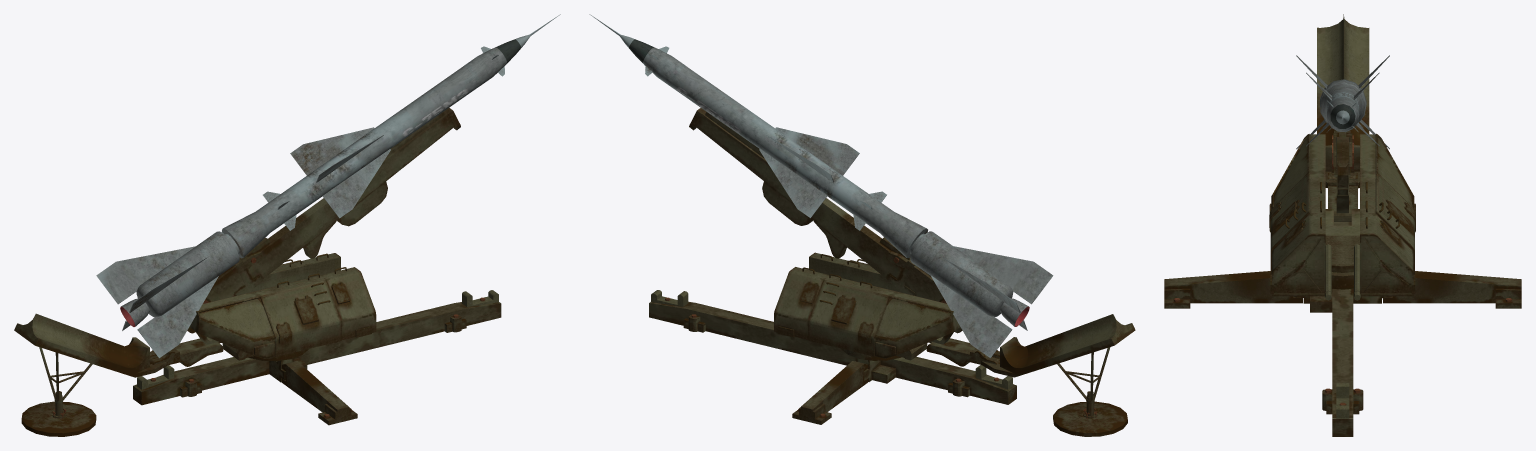
The model's file is sam2.glb.
The picture shows the model from 3 angles, left to right: view 1: azimuth 30°, elevation 25°; view 2: azimuth 150°, elevation 25°; view 3: azimuth 270°, elevation 25°; orthographic projection. The views are drawn at different scales.
Parts seen in each view (by area): view 1: nos, part2, part1, base1, part7, detail5, base2, detail2 R, part5, detail7, detail4; view 2: nos, part2, part1, base1, part7, detail5, base2, detail2 L, part5, detail7, detail4; view 3: part2, base2, part7, base1, nos, part1, base3, detail3, part5, part4, detail2 R, detail2 L (+2 smaller).
Boxes of the visible parts, x1,y1,x2,y2 form: nos: (96, 14, 560, 358); part2: (190, 253, 376, 358); part1: (187, 107, 460, 344); base1: (133, 302, 501, 405); part7: (14, 313, 167, 377); detail5: (21, 391, 96, 436); base2: (281, 361, 357, 425); detail2 R: (276, 282, 350, 343); part5: (172, 338, 223, 366); detail7: (137, 290, 498, 389); detail4: (39, 347, 92, 401); nos: (589, 14, 1053, 357); part2: (774, 252, 959, 358); part1: (689, 108, 962, 344); base1: (649, 301, 1016, 404); part7: (981, 314, 1135, 377); detail5: (1053, 391, 1127, 436); base2: (792, 361, 868, 424); detail2 L: (800, 282, 873, 342); part5: (926, 338, 977, 366); detail7: (651, 290, 1012, 389); detail4: (1057, 347, 1110, 400); part2: (1269, 133, 1415, 296); base2: (1164, 271, 1521, 308); part7: (1317, 14, 1369, 187); base1: (1293, 221, 1392, 436); nos: (1296, 55, 1389, 149); part1: (1332, 130, 1353, 213); base3: (1325, 235, 1359, 289); detail3: (1325, 244, 1360, 300); part5: (1328, 180, 1357, 221); part4: (1325, 209, 1359, 235); detail2 R: (1269, 199, 1304, 244); detail2 L: (1381, 199, 1415, 244).
Size of the model in its own units: 4.17 by 2.12 by 1.92.
41 materials, 41 textured.
